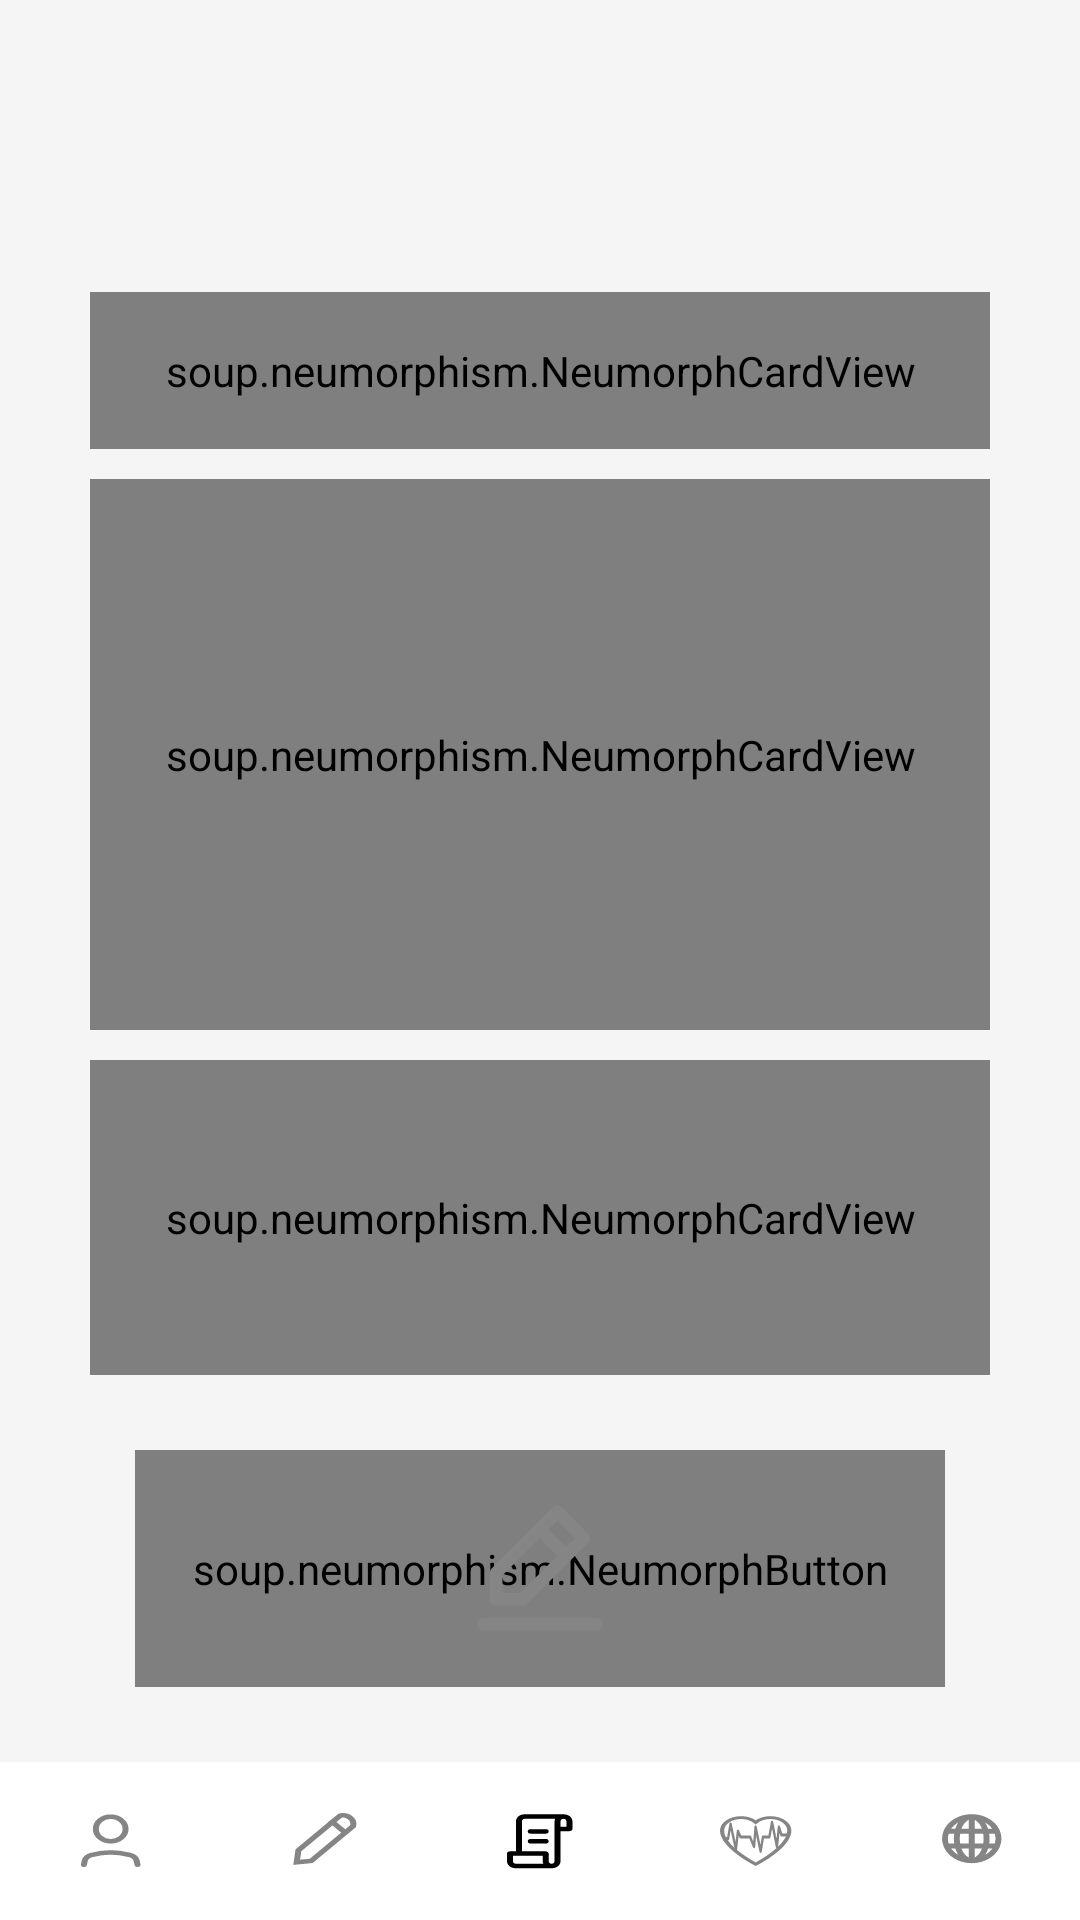

Locate icon controls on the screen. Image size 1080x1920, boxes as [x1,y1,x2,y2].
edit: [293,1813,357,1865]
heart: [720,1816,792,1866]
profile: [81,1814,141,1867]
scroll: [507,1814,573,1869]
